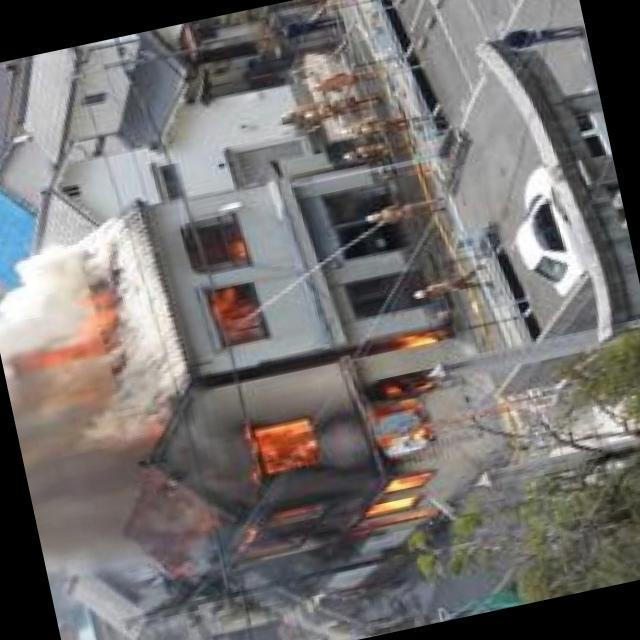Fire: (213, 319, 493, 563), (8, 278, 132, 398), (198, 222, 270, 348)
